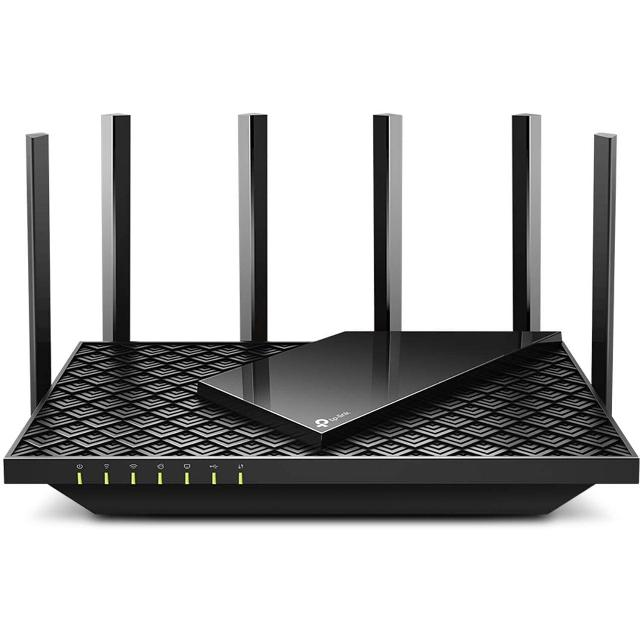Router: (2, 113, 640, 521)
